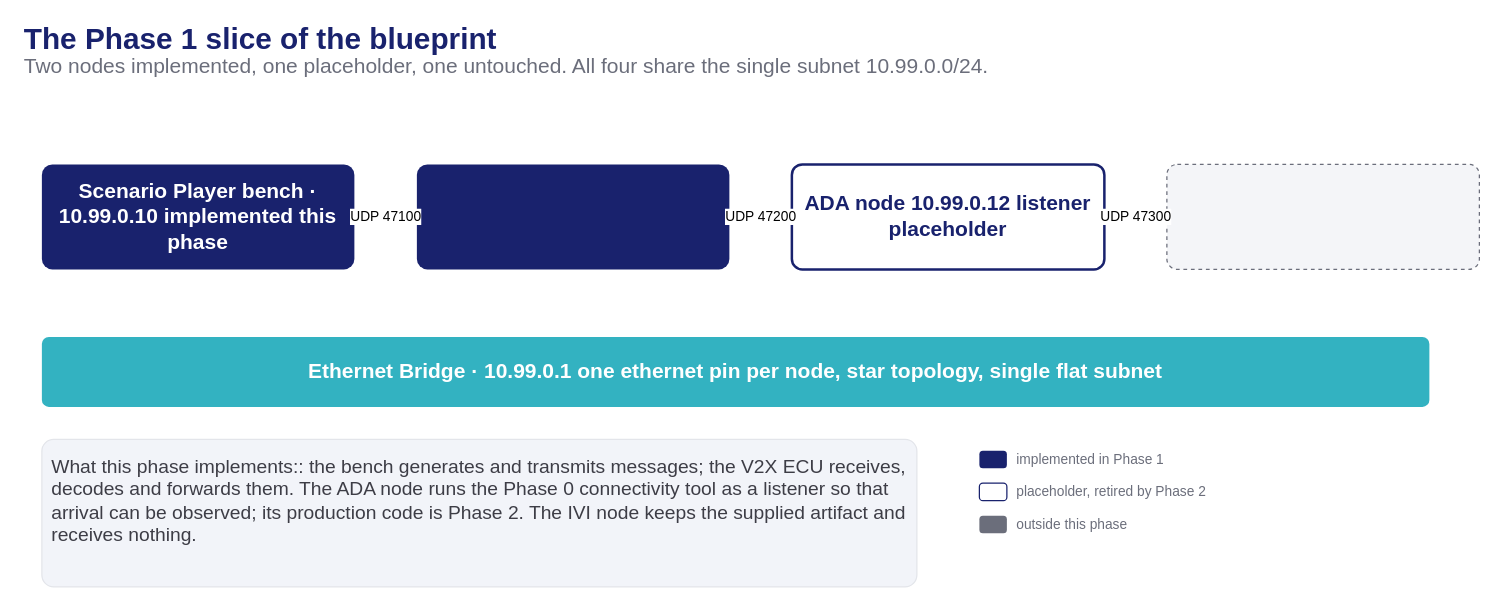
Some shapes in this 1501 by 609 pixel diagram are drawn without their labels. The box of each missing label's shape, as (x1, y1, x2, y2) in pixels:
IVI node 10.99.0.13 outside this phase: (1166, 163, 1479, 269)
V2X ECU 10.99.0.11 implemented this phase: (416, 164, 729, 269)
